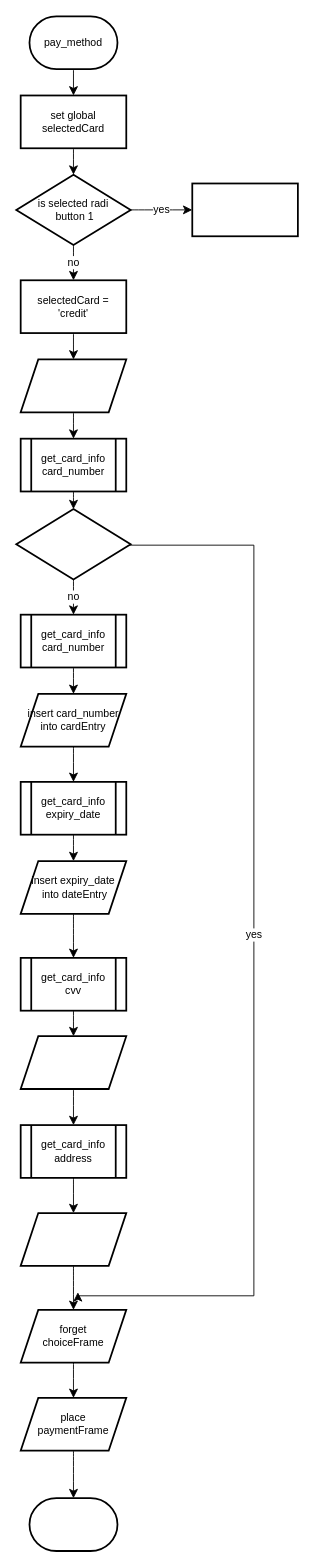
Some shapes in this 313 by 1566 pixel diagram are drawn without their labels. Here are the shapes that lost their labels. From the top down, the box of each, then its label:
(191, 182, 298, 237): selectedCard = 'debit'
(19, 358, 127, 413): print which card the user selected
(15, 508, 131, 580): is get_card_info false?
(19, 1035, 127, 1089): insert cvv into cvvEntry
(19, 1212, 127, 1266): insert address into addressEntry
(28, 1497, 118, 1551): end
